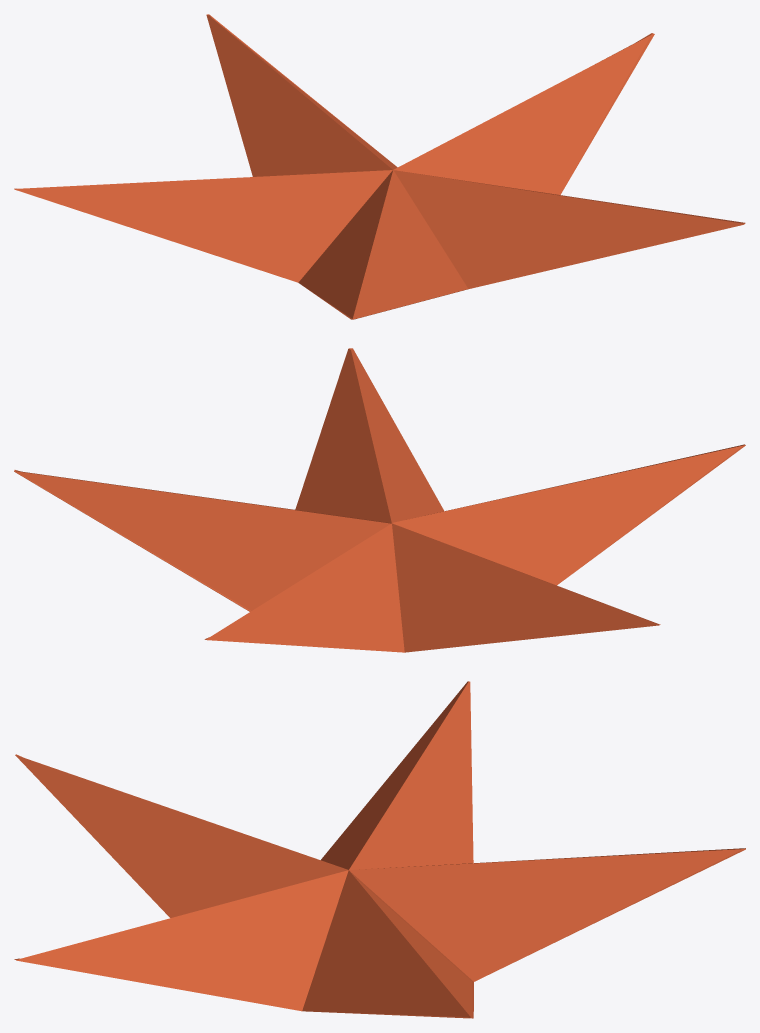
The model's file is starfish.fbx.
3 views of the same model, one above another, from view 1: azimuth 30°, elevation 25°; view 2: azimuth 150°, elevation 25°; view 3: azimuth 270°, elevation 25° (orthographic). The views are drawn at different scales.
Visible parts, largest first — view 1: Cone; view 2: Cone; view 3: Cone.
Boxes of the visible parts, <box> form: Cone: <box>14,14,745,319</box>; Cone: <box>14,348,745,652</box>; Cone: <box>14,681,745,1018</box>.
Bounding box in the file's own units: 106 × 14.03 × 97.86.
